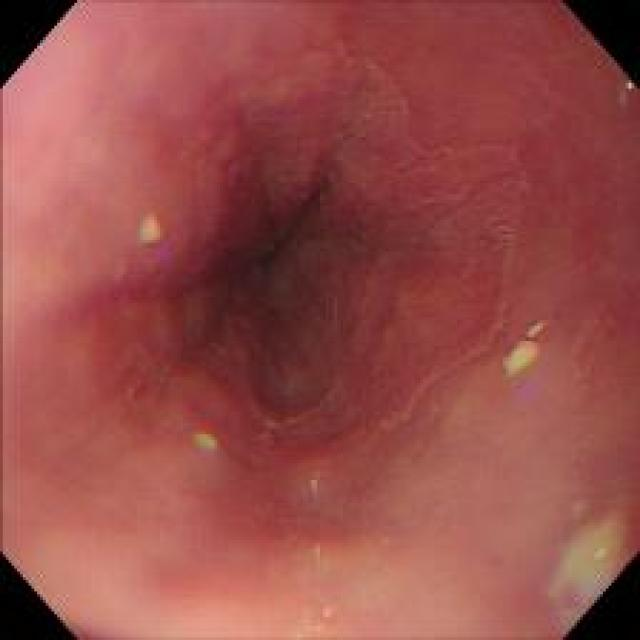blur: (29, 480, 504, 632), (32, 90, 200, 290)
color misalignment: (505, 369, 554, 414), (145, 209, 180, 269), (306, 599, 356, 635), (196, 445, 230, 475), (265, 406, 310, 428), (195, 422, 221, 448), (618, 76, 636, 110), (306, 470, 329, 494), (524, 321, 544, 342)
